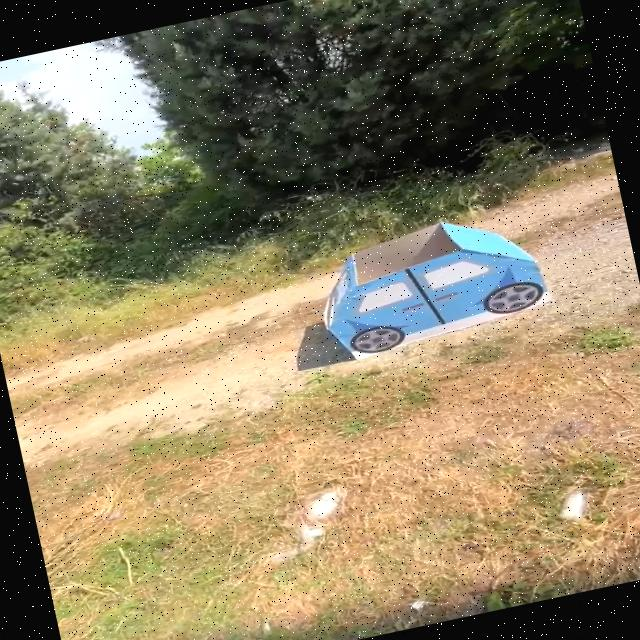blue_car: (301, 190, 579, 383)
